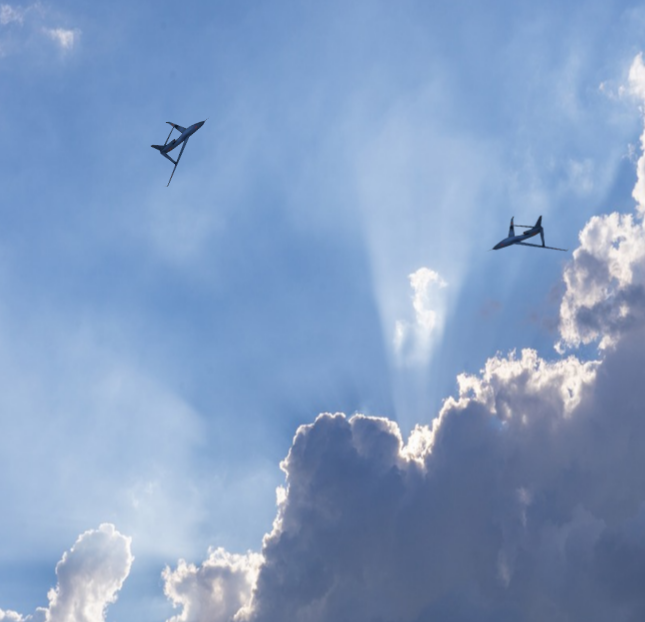military drone: (150, 117, 209, 187), (485, 214, 569, 251)
